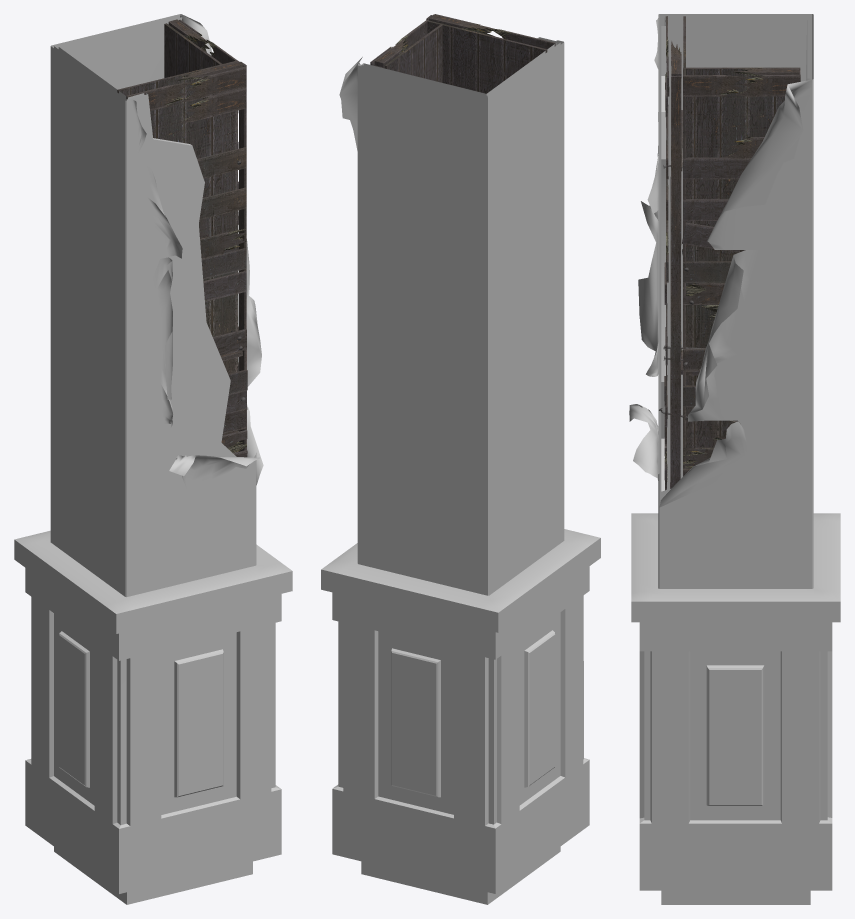
File: SM_ColumnB.FBX
3 views of the same model, side by side, from view 1: azimuth 30°, elevation 25°; view 2: azimuth 150°, elevation 25°; view 3: azimuth 270°, elevation 25° (orthographic). The views are drawn at different scales.
Parts seen in each view (by area): view 1: SM_ColumnB_LOD0; view 2: SM_ColumnB_LOD0; view 3: SM_ColumnB_LOD0.
Boxes of the visible parts, x1,y1,x2,y2 form: SM_ColumnB_LOD0: (14,14,292,904); SM_ColumnB_LOD0: (321,14,600,904); SM_ColumnB_LOD0: (629,14,840,904).
Size of what is drawn, in the model's own units: 83.2 by 351 by 80.99.
